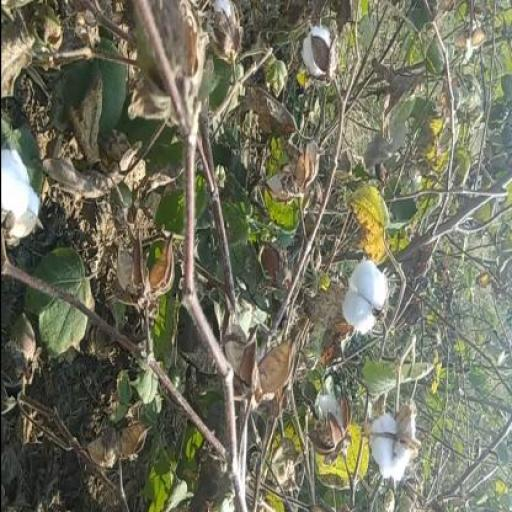cotton_ready: (0, 107, 44, 267), (333, 256, 392, 352), (361, 404, 428, 486), (280, 16, 344, 100)
